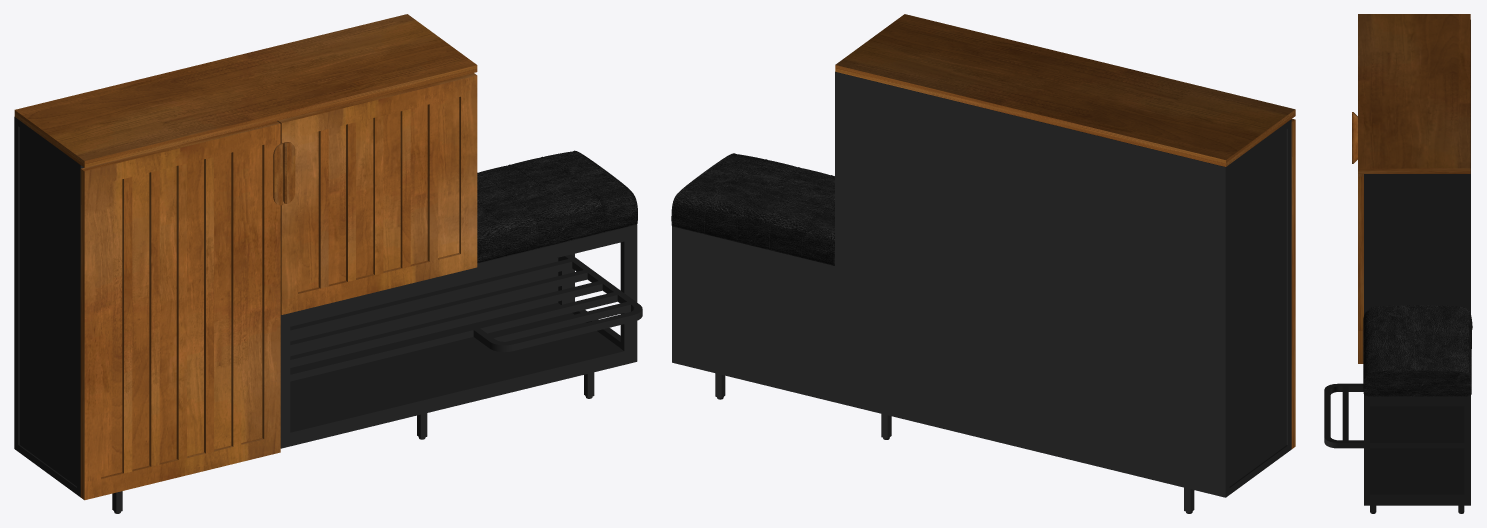
Rendered from borgin_shoe_cabinet_bgs-01_170x48x108cm.glb.
The picture shows the model from 3 angles, left to right: view 1: azimuth 30°, elevation 25°; view 2: azimuth 150°, elevation 25°; view 3: azimuth 270°, elevation 25°; orthographic projection. The views are drawn at different scales.
Parts seen in each view (by area): view 1: Object_8, Object_4, Object_3, Object_2, Object_5; view 2: Object_8, Object_2, Object_5, Object_4; view 3: Object_8, Object_2, Object_5, Object_3, Object_4.
Part boxes in pixels (<box>): Object_8: <box>14,117,642,513</box>; Object_4: <box>80,121,280,500</box>; Object_3: <box>278,73,477,314</box>; Object_2: <box>14,14,477,205</box>; Object_5: <box>477,150,637,262</box>; Object_8: <box>672,71,1291,513</box>; Object_2: <box>835,14,1295,166</box>; Object_5: <box>671,153,834,265</box>; Object_4: <box>1291,119,1295,448</box>; Object_8: <box>1324,20,1470,513</box>; Object_2: <box>1352,14,1470,173</box>; Object_5: <box>1363,305,1472,396</box>; Object_3: <box>1358,174,1363,330</box>; Object_4: <box>1358,331,1363,363</box>.
Size of the model in its own units: 1.68 by 1.06 by 0.4788.
Materials: 7 (7 with a texture image).
